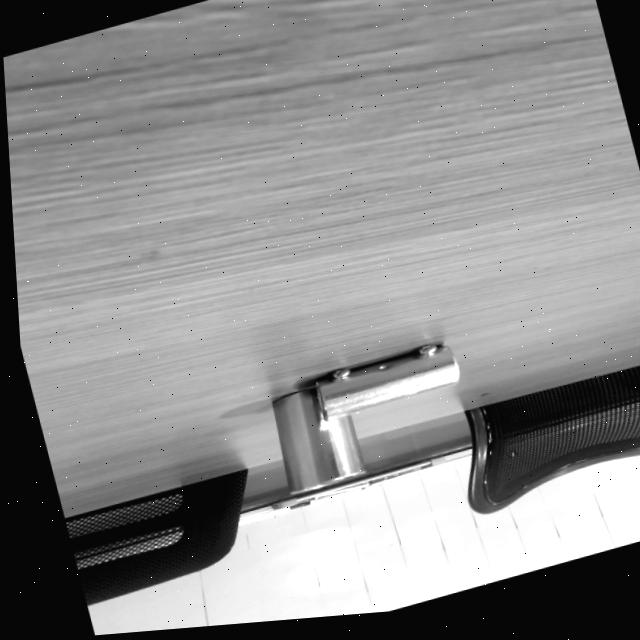Co_Lon: (263, 379, 367, 495)
Co_Nho: (311, 337, 462, 421)
